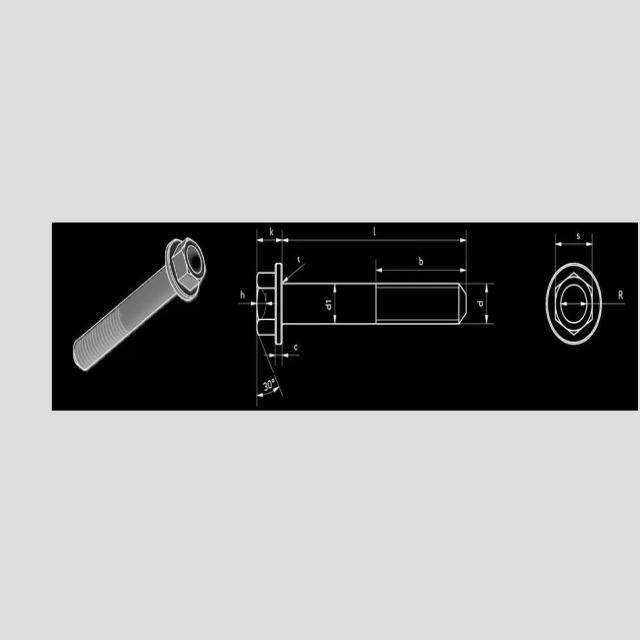marking_line: (281, 228, 468, 261), (374, 259, 468, 283), (256, 346, 284, 407), (553, 233, 594, 262), (467, 282, 494, 326), (255, 227, 283, 262), (255, 228, 274, 271), (264, 346, 300, 367), (284, 263, 306, 283), (332, 285, 338, 323), (562, 301, 586, 307), (238, 300, 255, 307), (267, 300, 274, 308)
